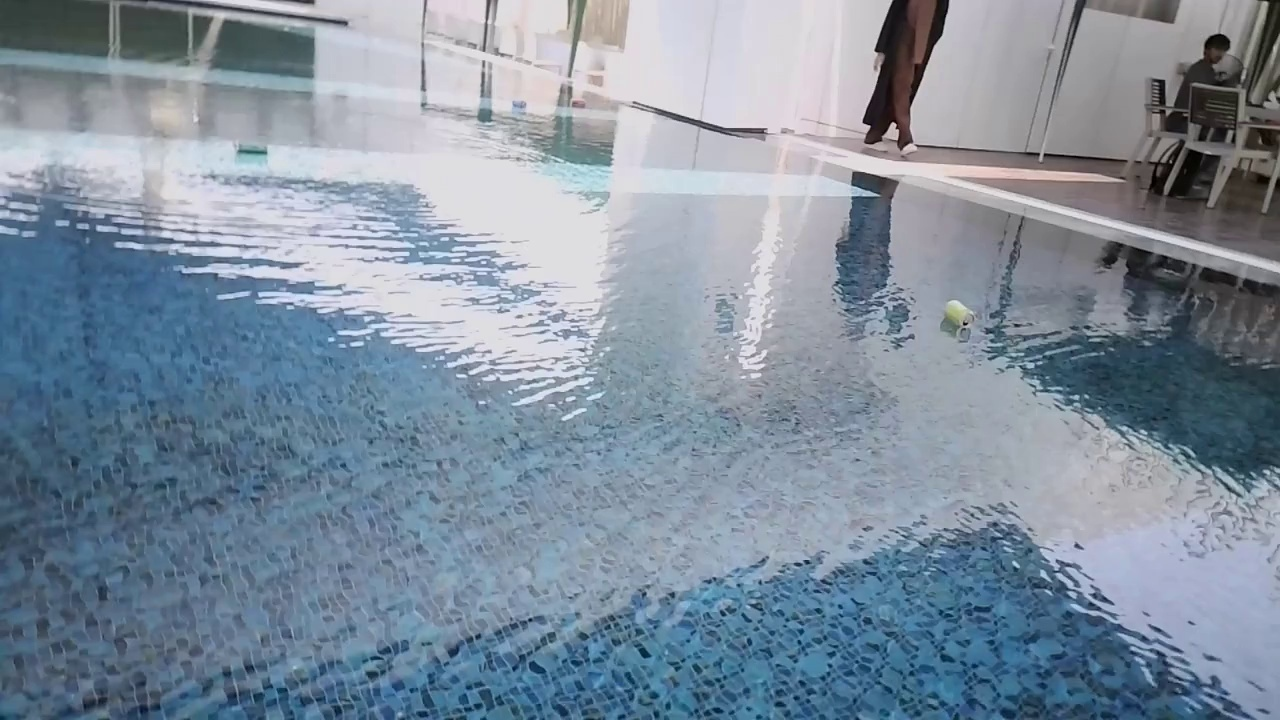debris: (941, 291, 978, 337), (228, 136, 272, 163), (508, 93, 528, 112), (568, 94, 588, 113)
